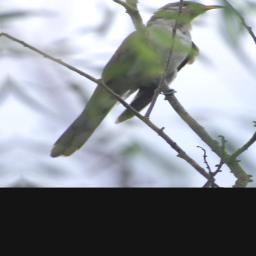Cuckoo: (19, 0, 243, 161)
